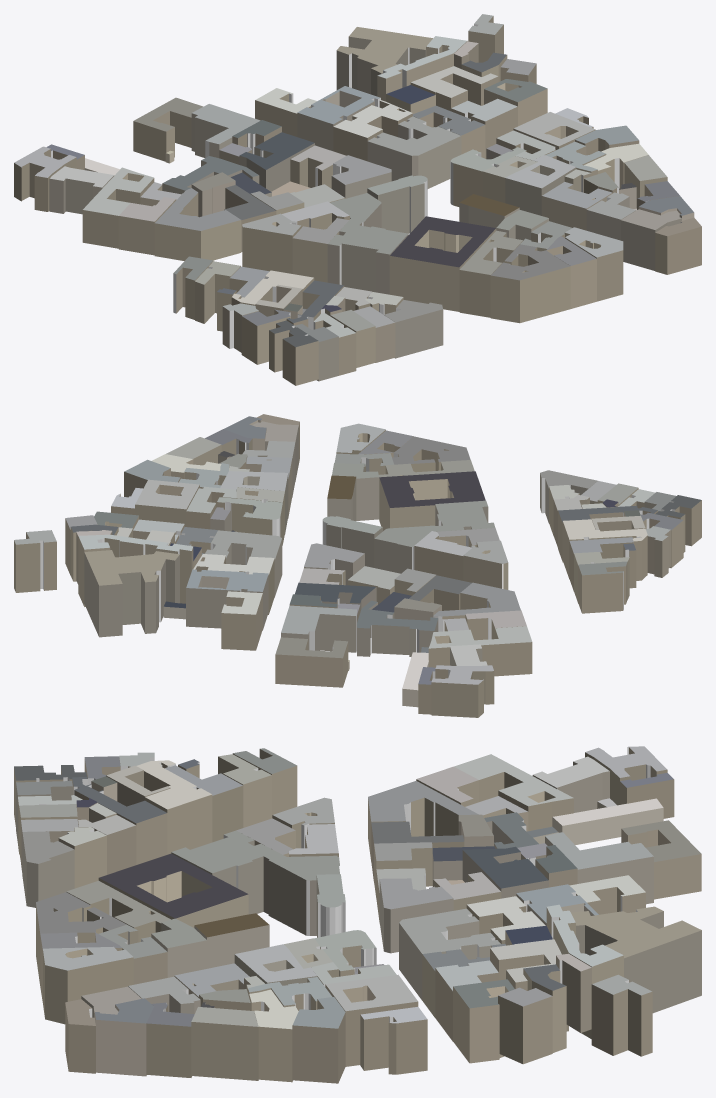
3 renders of one model, top to bottom at view 1: azimuth 30°, elevation 25°; view 2: azimuth 150°, elevation 25°; view 3: azimuth 270°, elevation 25°, orthographic. The views are drawn at different scales.
Parts seen in each view (by area): view 1: tuile; view 2: tuile; view 3: tuile.
Part boxes in pixels (left/top/right/bottom): tuile: left=14, top=14, right=701, bottom=385; tuile: left=14, top=414, right=701, bottom=717; tuile: left=14, top=746, right=701, bottom=1083.
Size of the model in its own units: 270 by 40.3 by 267.
